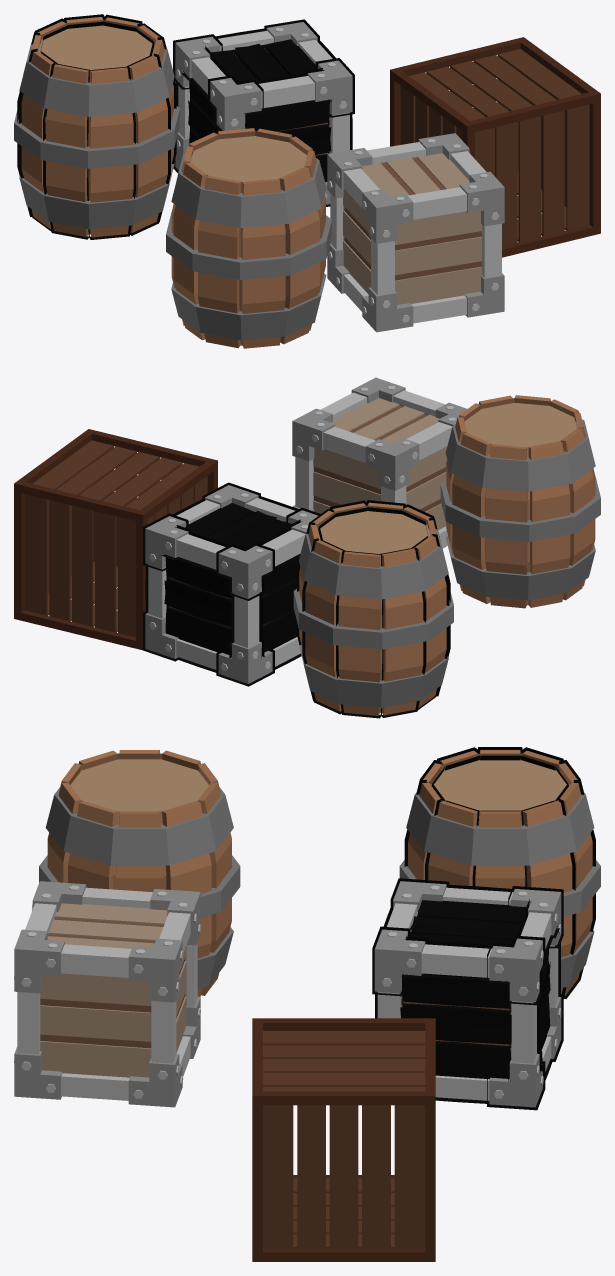
The model's file is Boxes.fbx.
3 views of the same model, one above another, from view 1: azimuth 30°, elevation 25°; view 2: azimuth 150°, elevation 25°; view 3: azimuth 270°, elevation 25° (orthographic). The views are drawn at different scales.
Visible parts, largest first — view 1: Cube.006, Circle.014, Circle.002, Circle.012, Circle.004, Cube.021, Circle.006, Cube.020, Cube.019, Cube.002, Cube.001, Circle.013 (+5 smaller); view 2: Cube.006, Circle.006, Circle.014, Circle.002, Circle.012, Circle.004, Cube.021, Cube.002, Cube.001, Cube.019, Cube.020, Circle.013 (+5 smaller); view 3: Cube.006, Circle.006, Cube.021, Circle.014, Cube.020, Cube.019, Circle.002, Circle.012, Circle.004, Cube.002, Cube.001, Circle.013 (+5 smaller).
Boxes of the visible parts, x1,y1,x2,y2 form: Cube.006: (390,37,600,257); Circle.014: (171,128,325,348); Circle.002: (21,17,173,237); Circle.012: (166,153,331,340); Circle.004: (14,43,179,229); Cube.021: (343,153,481,304); Circle.006: (173,19,354,206); Cube.020: (327,133,504,332); Cube.019: (330,142,501,323); Cube.002: (175,22,352,204); Cube.001: (178,31,349,153); Circle.013: (190,136,306,181); Cube.006: (14,429,217,650); Circle.006: (143,482,320,686); Circle.014: (446,395,595,608); Circle.002: (299,502,446,715); Circle.012: (440,419,600,600); Circle.004: (293,528,453,707); Cube.021: (313,398,447,530); Cube.002: (145,485,318,683); Cube.001: (148,498,305,669); Cube.019: (295,390,452,548); Cube.020: (292,377,466,511); Circle.013: (464,402,576,447); Cube.006: (252,1018,435,1261); Circle.006: (372,878,563,1110); Cube.021: (40,903,186,1077); Circle.014: (47,750,231,996); Cube.020: (14,881,200,1107); Cube.019: (17,887,197,1100); Circle.002: (408,750,592,995); Circle.012: (39,787,240,989); Circle.004: (399,792,600,988); Cube.002: (374,881,561,1107); Cube.001: (377,887,558,1100); Circle.013: (70,759,208,811).
Size of the model in its own units: 411 by 177 by 375.
